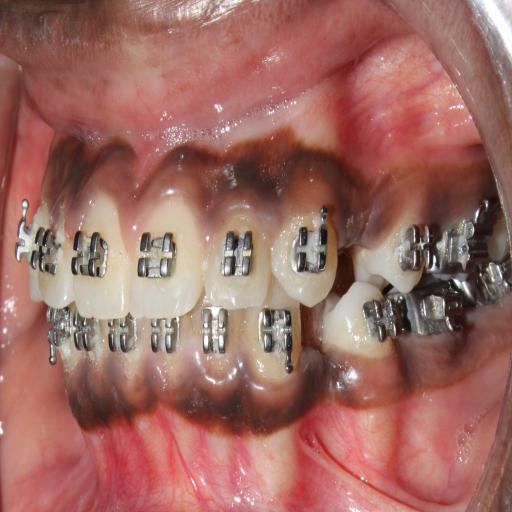correct_brace: (352, 223, 436, 295), (288, 226, 330, 280), (68, 226, 110, 278), (220, 225, 256, 284), (137, 229, 175, 277)
incorrect_brace: (205, 204, 270, 309), (398, 223, 436, 273)
